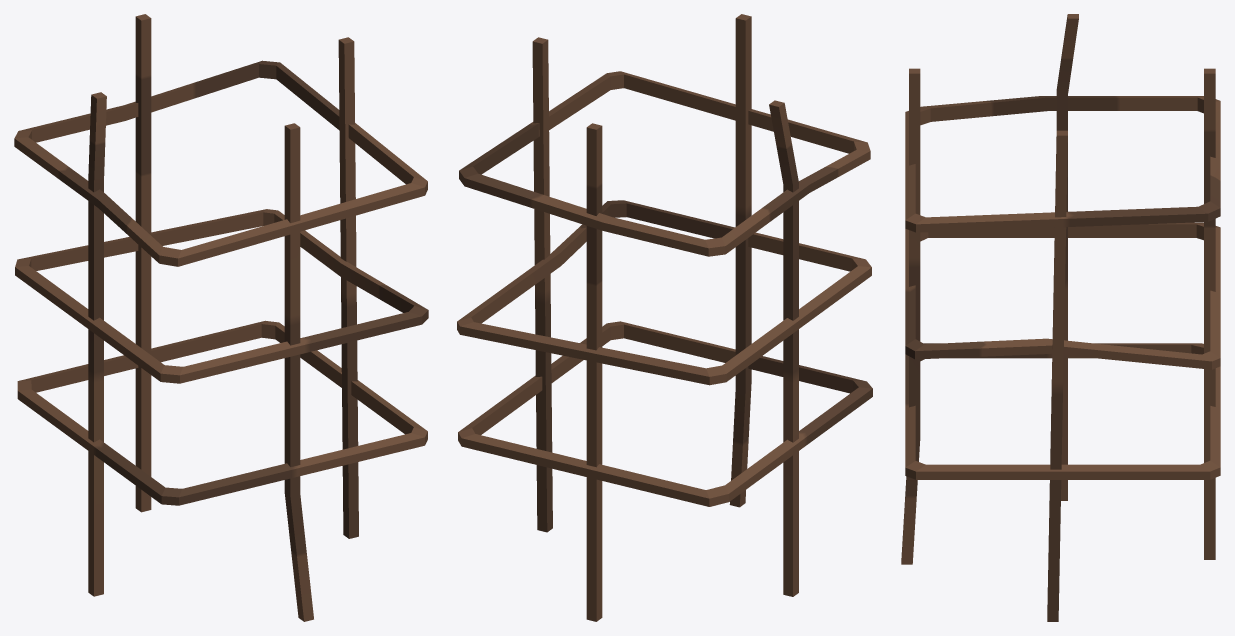
The model's file is SM_Bld_ConcreteRebar_Pillar_03.fbx.
3 renders of one model, left to right at view 1: azimuth 30°, elevation 25°; view 2: azimuth 150°, elevation 25°; view 3: azimuth 270°, elevation 25°, orthographic.
Visible parts, largest first — view 1: SM_Bld_ConcreteRebar_Pillar_03; view 2: SM_Bld_ConcreteRebar_Pillar_03; view 3: SM_Bld_ConcreteRebar_Pillar_03.
Part boxes in pixels (x1,y1,x2,y2): SM_Bld_ConcreteRebar_Pillar_03: [14, 14, 428, 621]; SM_Bld_ConcreteRebar_Pillar_03: [457, 14, 872, 621]; SM_Bld_ConcreteRebar_Pillar_03: [901, 14, 1220, 621].
Size of the model in its own units: 65.72 by 116 by 69.01.
